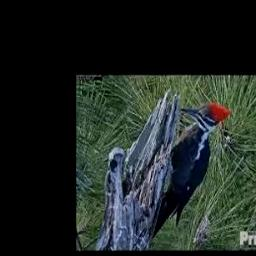Woodpecker: (150, 102, 231, 242)
